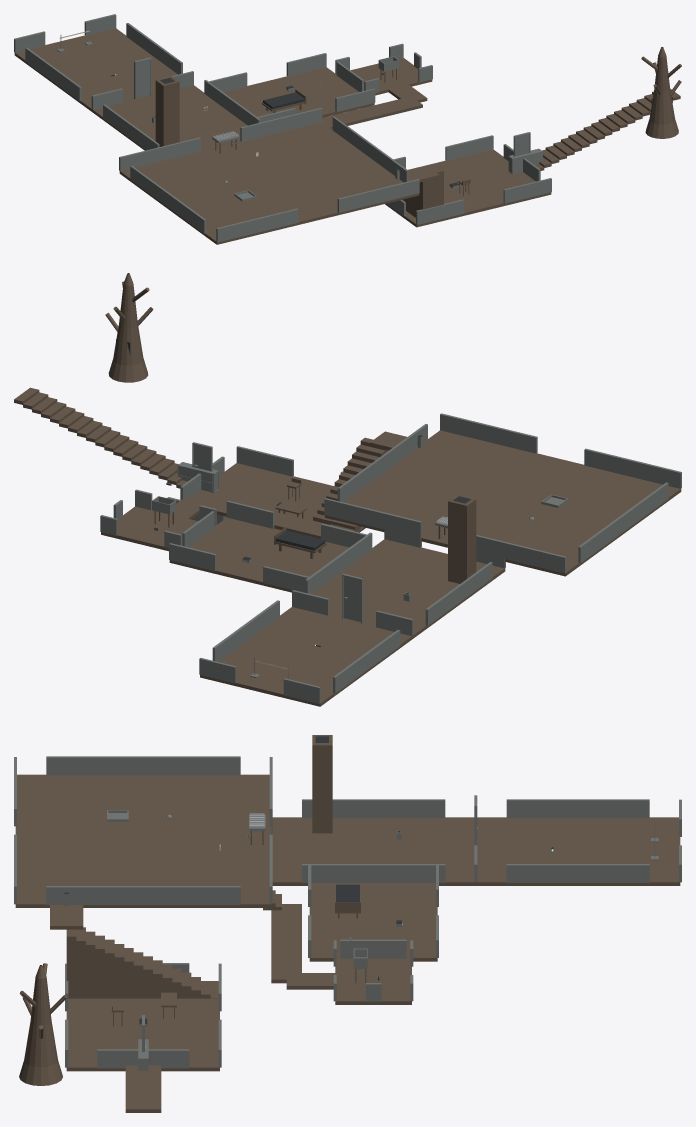
3 renders of one model, top to bottom at view 1: azimuth 30°, elevation 25°; view 2: azimuth 150°, elevation 25°; view 3: azimuth 270°, elevation 25°, orthographic. The views are drawn at different scales.
Parts seen in each view (by area): view 1: C貼屋露台地坪, C貼屋露台殘牆 (×6), 入口地坪, D地下診療地坪, 客廳／廚房殘角地坪, A客房地坪, 入口殘牆 (×5), D地下診療殘牆 (×4), A客房殘牆 (×4), P022_焦黑樹幹, P036_煙囪, 客廳／廚房殘角殘牆 (×2) (+8 smaller); view 2: C貼屋露台地坪, C貼屋露台殘牆 (×6), 入口地坪, 客廳／廚房殘角地坪, A客房地坪, 入口殘牆 (×6), D地下診療地坪, A客房殘牆 (×4), P036_煙囪, P022_焦黑樹幹, B暗房地坪, 客廳／廚房殘角殘牆 (×2) (+3 smaller); view 3: C貼屋露台地坪, 入口地坪, 客廳／廚房殘角地坪, D地下診療地坪, A客房地坪, C貼屋露台殘牆 (×2), 入口殘牆 (×2), 客廳／廚房殘角殘牆 (×2), B暗房地坪, P022_焦黑樹幹, B往C廊道, P036_煙囪 (+10 smaller).
Part boxes in pixels (x1,y1,x2,y2): C貼屋露台地坪: (119, 122, 419, 244); C貼屋露台殘牆 (×6): (119, 108, 419, 242); 入口地坪: (14, 28, 177, 111); D地下診療地坪: (385, 149, 551, 227); 客廳／廚房殘角地坪: (92, 85, 247, 150); A客房地坪: (224, 67, 374, 117); 入口殘牆 (×5): (14, 14, 182, 109); D地下診療殘牆 (×4): (416, 135, 551, 224); A客房殘牆 (×4): (208, 53, 375, 112); P022_焦黑樹幹: (645, 47, 678, 138); P036_煙囪: (155, 76, 179, 146); 客廳／廚房殘角殘牆 (×2): (103, 80, 260, 149); C貼屋露台地坪: (325, 430, 681, 576); C貼屋露台殘牆 (×6): (324, 413, 681, 573); 入口地坪: (200, 607, 412, 706); 客廳／廚房殘角地坪: (311, 539, 505, 638); A客房地坪: (169, 517, 349, 592); 入口殘牆 (×6): (199, 590, 413, 703); D地下診療地坪: (191, 463, 365, 532); A客房殘牆 (×4): (169, 500, 367, 592); P036_煙囪: (448, 494, 476, 583); P022_焦黑樹幹: (108, 273, 148, 382); B暗房地坪: (101, 506, 197, 551); 客廳／廚房殘角殘牆 (×2): (305, 532, 492, 625); C貼屋露台地坪: (15, 774, 271, 907); 入口地坪: (476, 817, 680, 885); 客廳／廚房殘角地坪: (272, 817, 475, 885); D地下診療地坪: (66, 981, 219, 1071); A客房地坪: (309, 883, 437, 961); C貼屋露台殘牆 (×2): (46, 756, 240, 904); 入口殘牆 (×2): (506, 799, 649, 882); 客廳／廚房殘角殘牆 (×2): (302, 799, 445, 882); B暗房地坪: (335, 958, 411, 1004); P022_焦黑樹幹: (19, 965, 62, 1085); B往C廊道: (271, 904, 301, 983); P036_煙囪: (312, 735, 332, 833).
Size of the model in its own units: 30.06 by 7.36 by 26.12.
